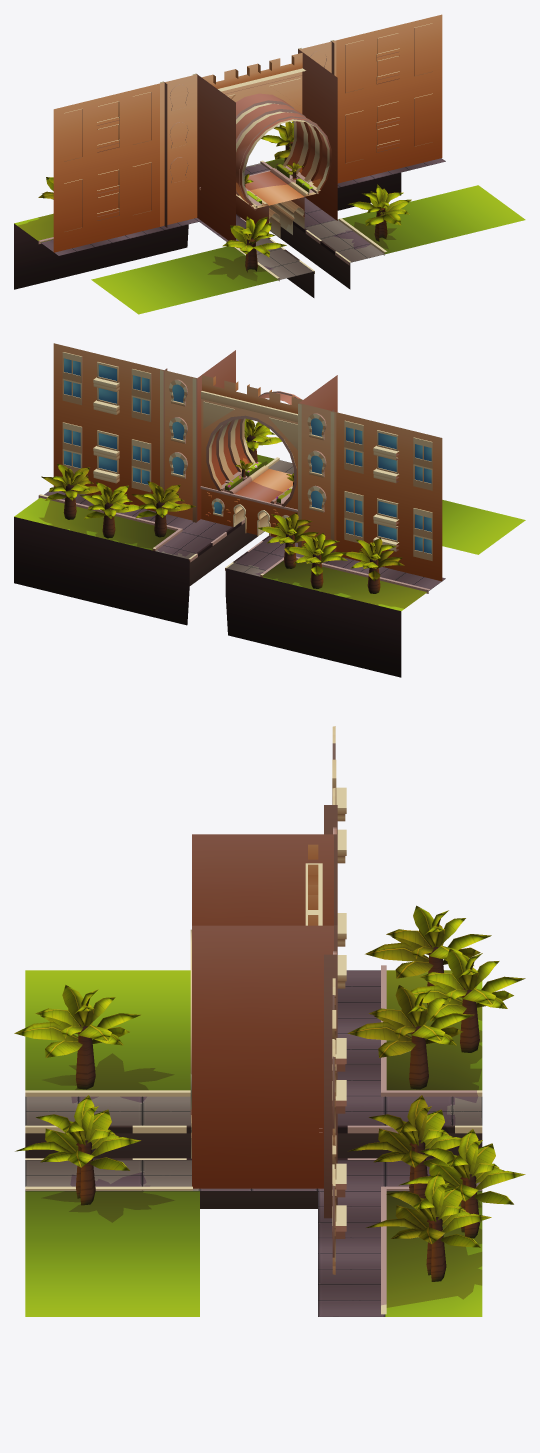
Rendered from SwapBuild.fbx.
3 views of the same model, one above another, from view 1: azimuth 30°, elevation 25°; view 2: azimuth 150°, elevation 25°; view 3: azimuth 270°, elevation 25° (orthographic). The views are drawn at different scales.
Visible parts, largest first — view 1: 1.104_Dubai_gates_base, 1.104_Dubai_gates_sides; view 2: 1.104_Dubai_gates_base, 1.104_Dubai_gates_sides; view 3: 1.104_Dubai_gates_base.
Part boxes in pixels (x1=…): 1.104_Dubai_gates_base: x1=14, y1=14, x2=525, y2=314; 1.104_Dubai_gates_sides: x1=245, y1=170, x2=304, y2=237; 1.104_Dubai_gates_base: x1=14, y1=343, x2=525, y2=677; 1.104_Dubai_gates_sides: x1=233, y1=469, x2=293, y2=536; 1.104_Dubai_gates_base: x1=14, y1=726, x2=525, y2=1316.
Bounding box in the file's own units: 43973 × 22662 × 27264.
1 material, 1 textured.
